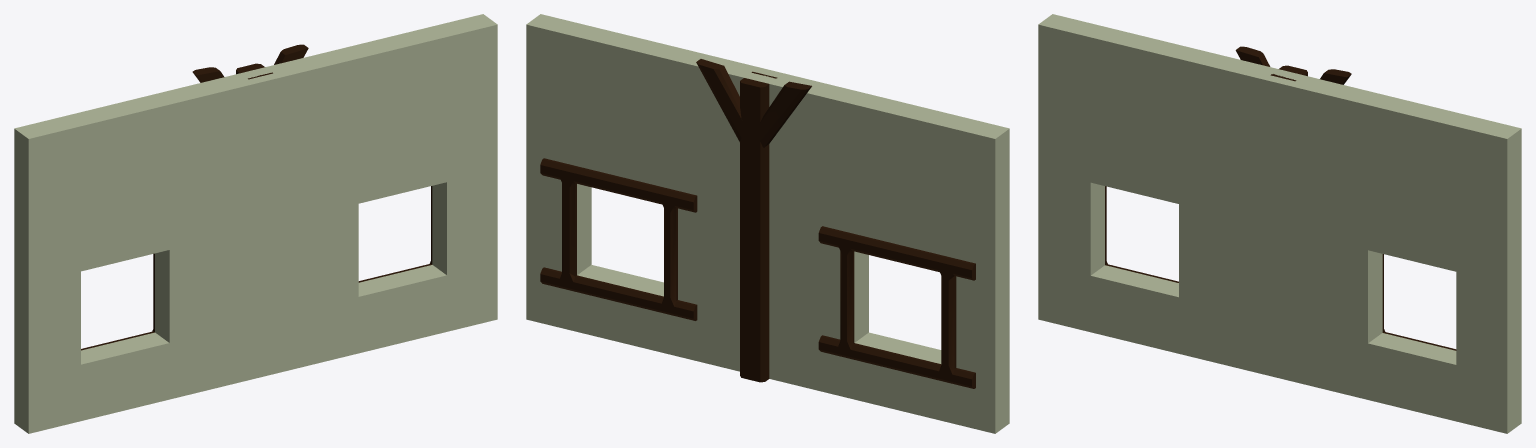
File: Wall_Long02_FBX.fbx
3 renders of one model, left to right at view 1: azimuth 30°, elevation 25°; view 2: azimuth 150°, elevation 25°; view 3: azimuth 330°, elevation 25°, orthographic.
Parts seen in each view (by area): view 1: Long wall double window009; view 2: Long wall double window009, Box156, Box174, Box175; view 3: Long wall double window009.
Boxes of the visible parts, <box> form: Long wall double window009: <box>14,14,497,433</box>; Long wall double window009: <box>526,14,1009,433</box>; Box156: <box>740,71,777,382</box>; Box174: <box>696,59,743,141</box>; Box175: <box>757,81,811,147</box>; Long wall double window009: <box>1038,14,1521,433</box>.
Bounding box in the file's own units: 749 × 463 × 57.37.
